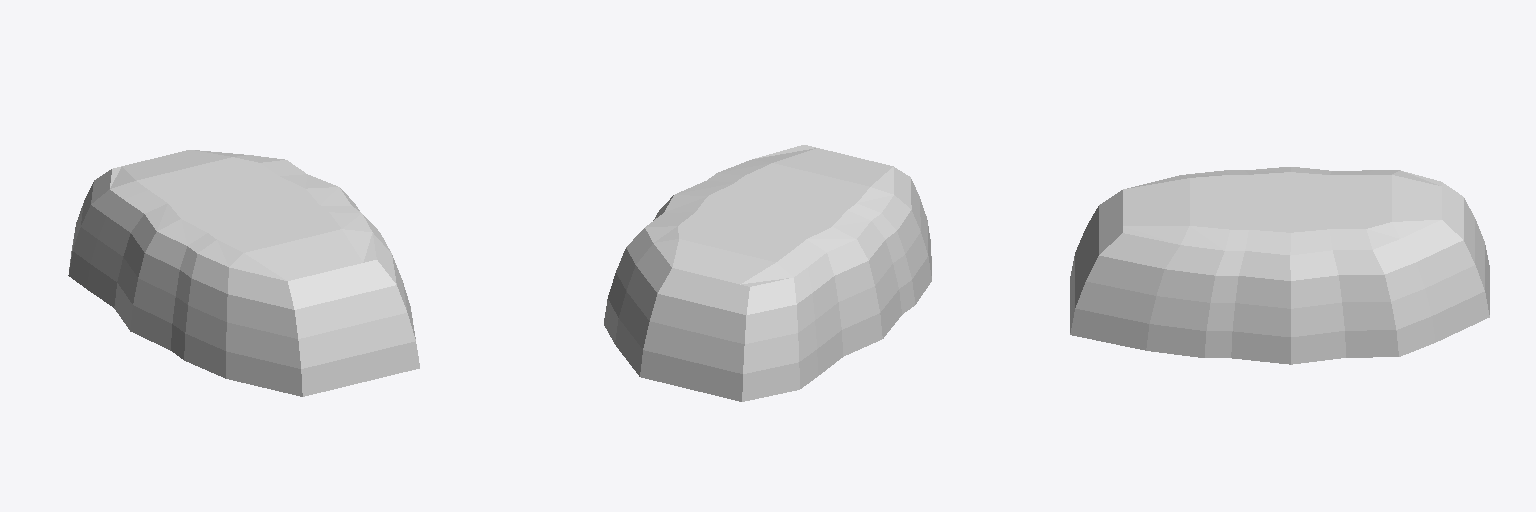
The model's file is hill1_mapped.obj.
3 views of the same model, side by side, from view 1: azimuth 30°, elevation 25°; view 2: azimuth 150°, elevation 25°; view 3: azimuth 270°, elevation 25° (orthographic).
Parts seen in each view (by area): view 1: mesh01; view 2: mesh01; view 3: mesh01.
Boxes of the visible parts, <box> form: mesh01: <box>68,150,419,396</box>; mesh01: <box>604,145,931,401</box>; mesh01: <box>1070,167,1489,364</box>.
Bounding box in the file's own units: 2598 × 1033 × 3928.